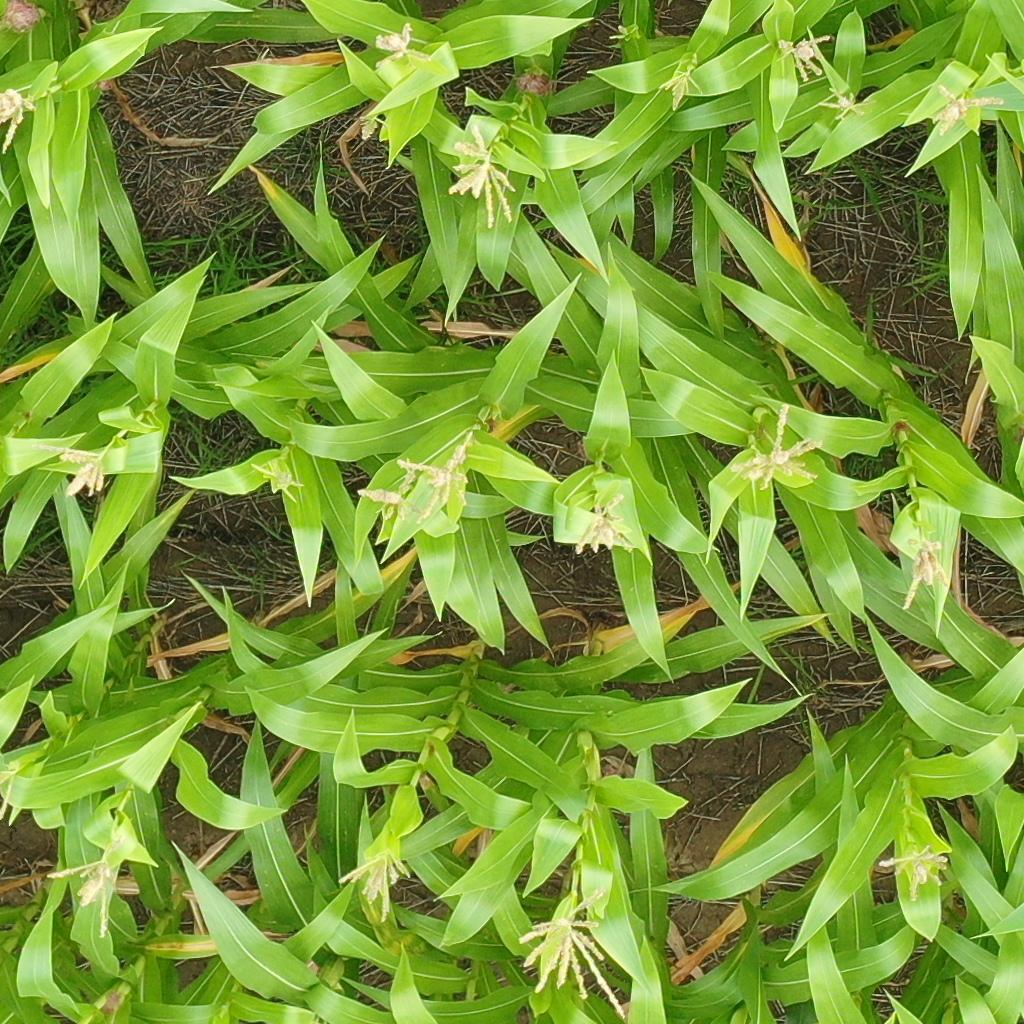Tassel: (517, 888, 631, 1019), (45, 823, 128, 941), (728, 403, 825, 493), (445, 125, 520, 230), (395, 439, 475, 525), (334, 853, 409, 924), (569, 489, 640, 559), (32, 437, 108, 501), (355, 463, 426, 525), (875, 842, 947, 900), (899, 535, 953, 612), (927, 84, 1005, 134), (243, 455, 307, 505), (370, 22, 434, 66), (778, 32, 831, 84), (1, 87, 38, 154), (816, 84, 875, 121), (657, 68, 706, 102), (357, 113, 390, 140), (1, 766, 16, 824), (610, 25, 640, 42)
